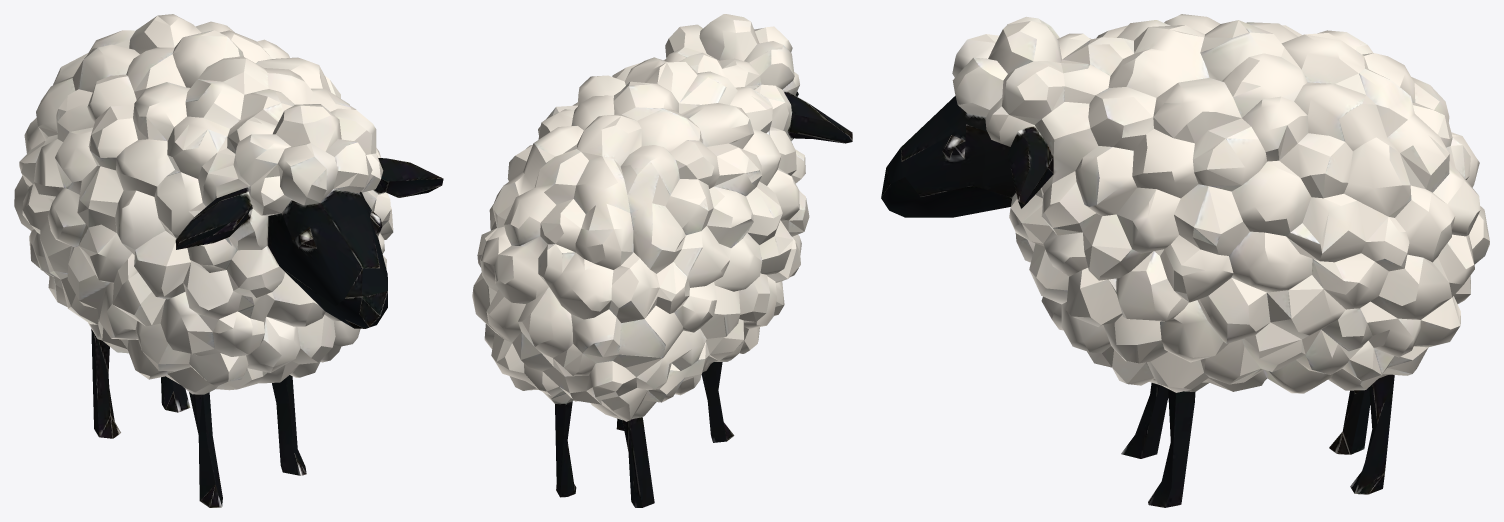
The model's file is sheep.glb.
The picture shows the model from 3 angles, left to right: view 1: azimuth 30°, elevation 25°; view 2: azimuth 150°, elevation 25°; view 3: azimuth 270°, elevation 25°; orthographic projection. The views are drawn at different scales.
Bounding box in the file's own units: 1.09 × 1.55 × 1.89.
1 material, 1 textured.
